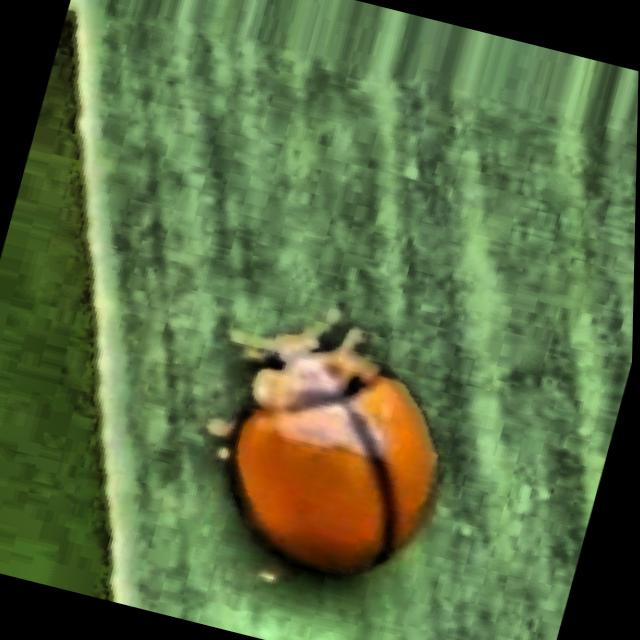Ladybug: (130, 268, 517, 630)
